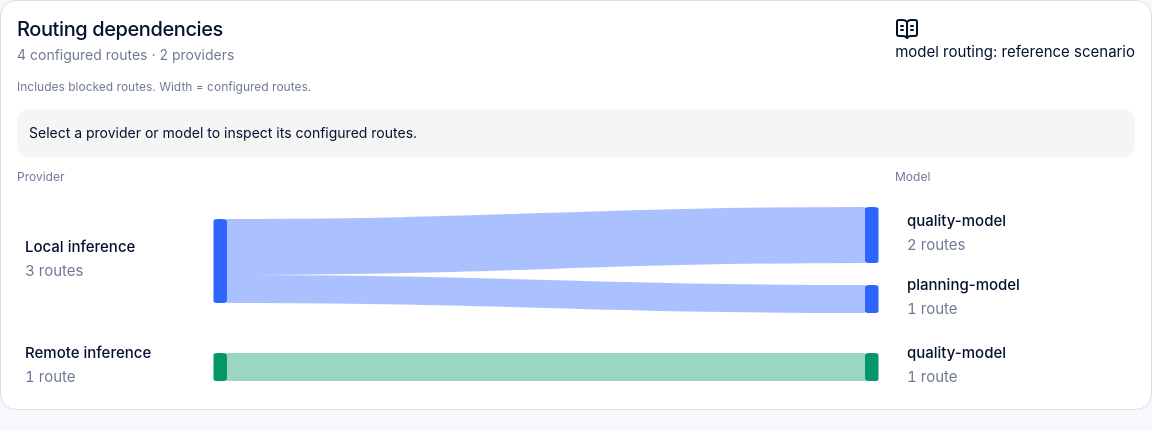
Test case: Model routing dependencies › previews on hover, pins a model on click and inspects only on explicit request
This screenshot has width=1152, height=431.
Hover over the button with aria-label "Select provider Local inference" at (107, 260), box [17, 196, 197, 324]
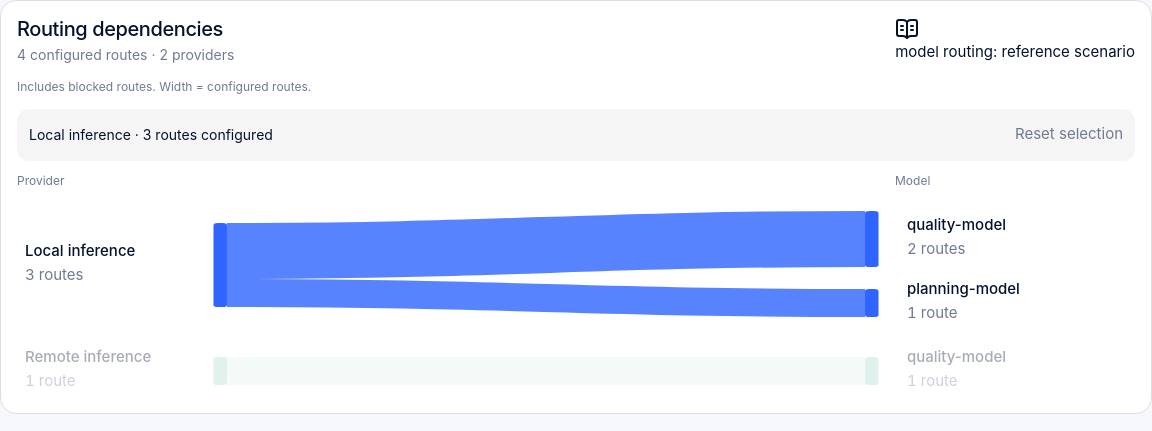
Expected: the message reads "Local inference · 3 routes configured", [29, 126, 273, 142]
Move the pointer off the button with aria-label "Select provider Local inference", box [17, 200, 197, 328]
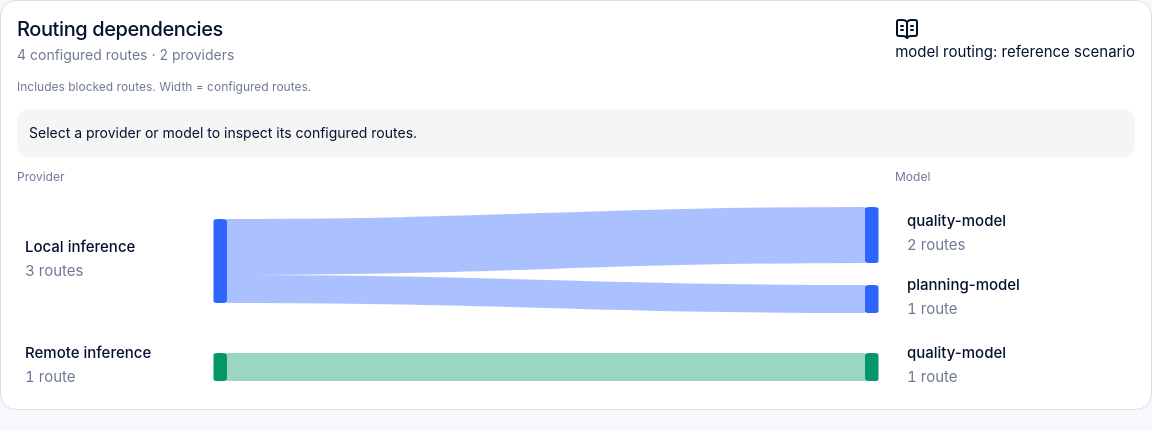
Expected: the message shows "Select a provider or model", [29, 124, 417, 140]
Click the button with aria-label "Select quality-model from Local inference" at (1015, 234), box [895, 196, 1135, 272]
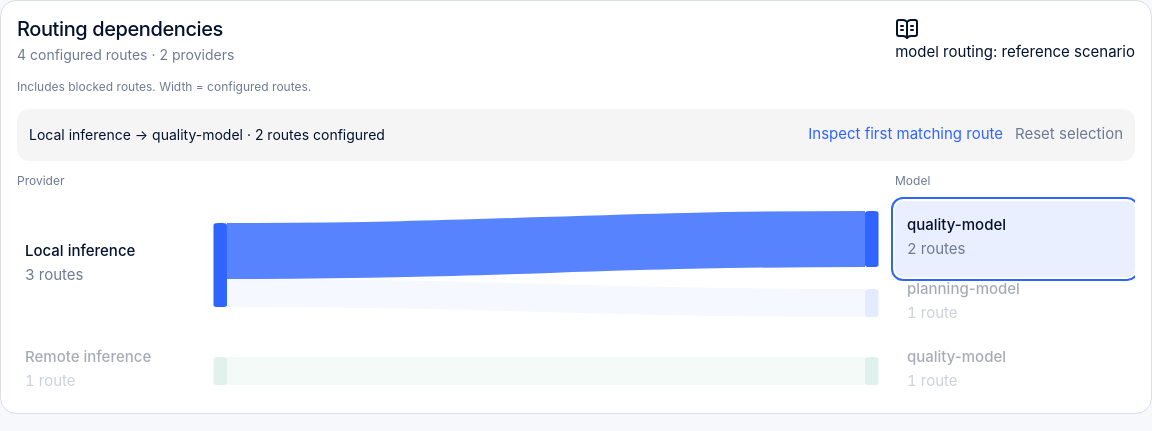
Move the pointer off the button with aria-label "Select quality-model from Local inference", box [895, 200, 1135, 276]
Expected: the message reads "Local inference → quality-model · 2 routes configured", [29, 126, 385, 142]
Click the button "Inspect first matching route" at (906, 134), box [808, 116, 1003, 152]
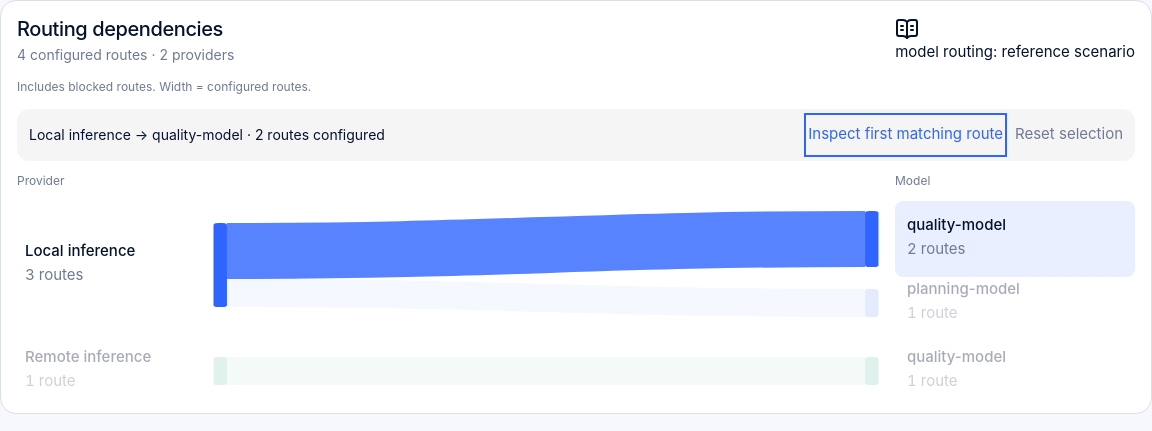
Click the button "Reset selection" at (1069, 134), box [1015, 116, 1123, 152]
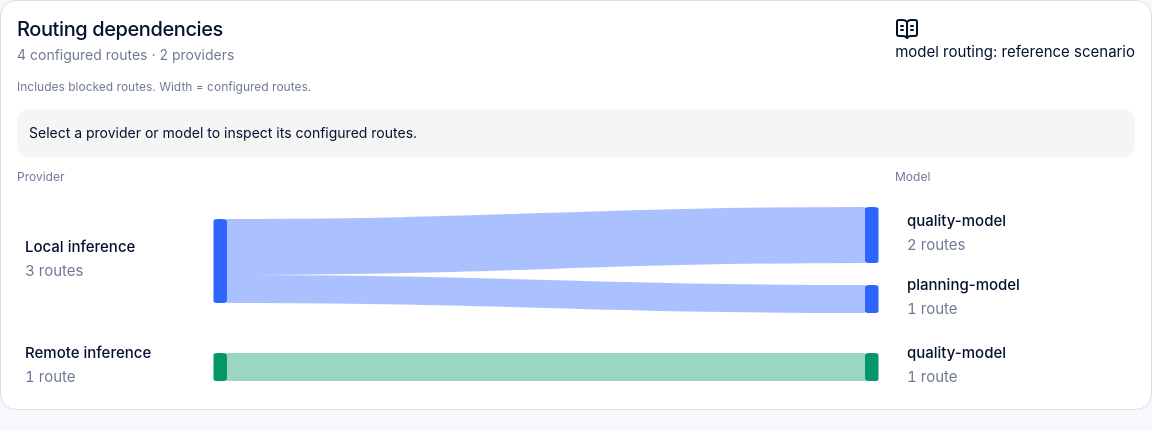
Expected: the message shows "Select a provider or model", [29, 124, 417, 140]
